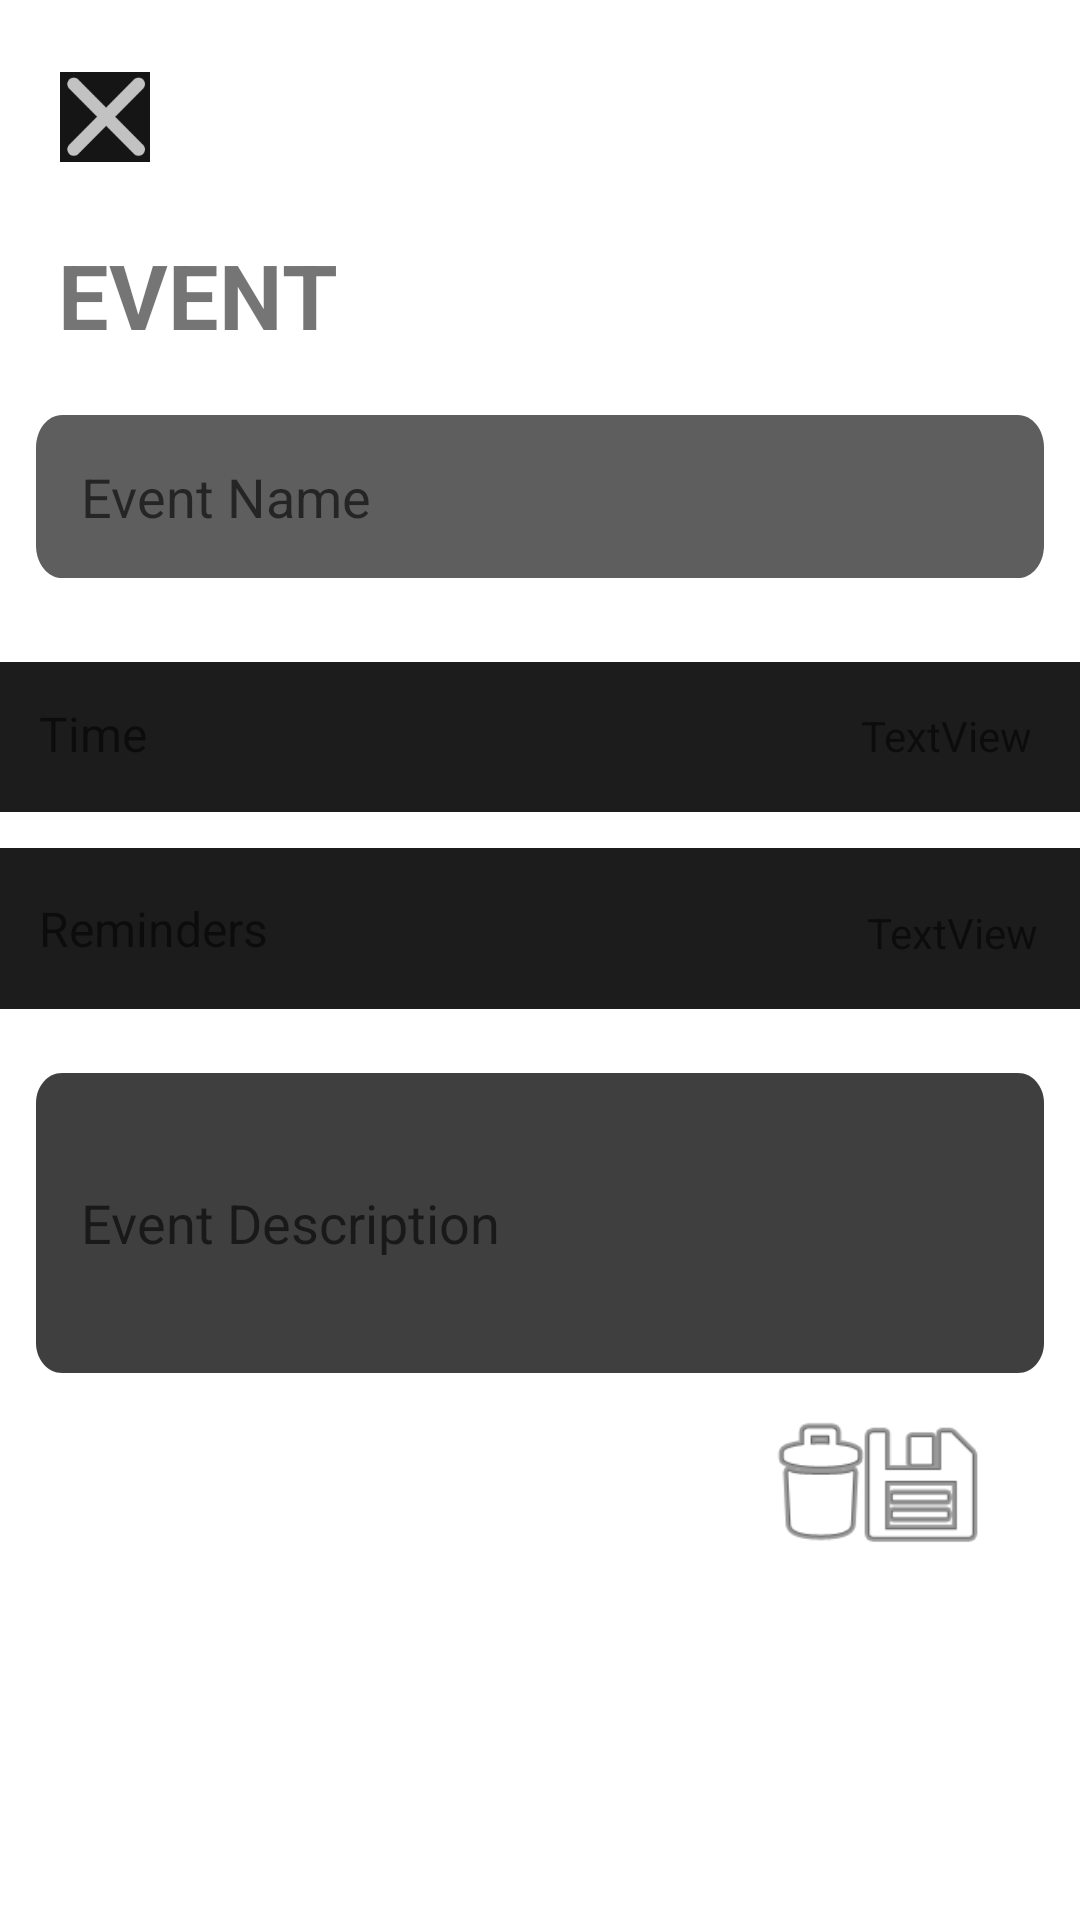

Locate icon controls on the screen. Image size 1080x1920, boxes as (x1, y1, x2, y2).
cancel: (60, 72, 150, 162)
delete: (778, 1423, 863, 1540)
save: (864, 1427, 978, 1542)
